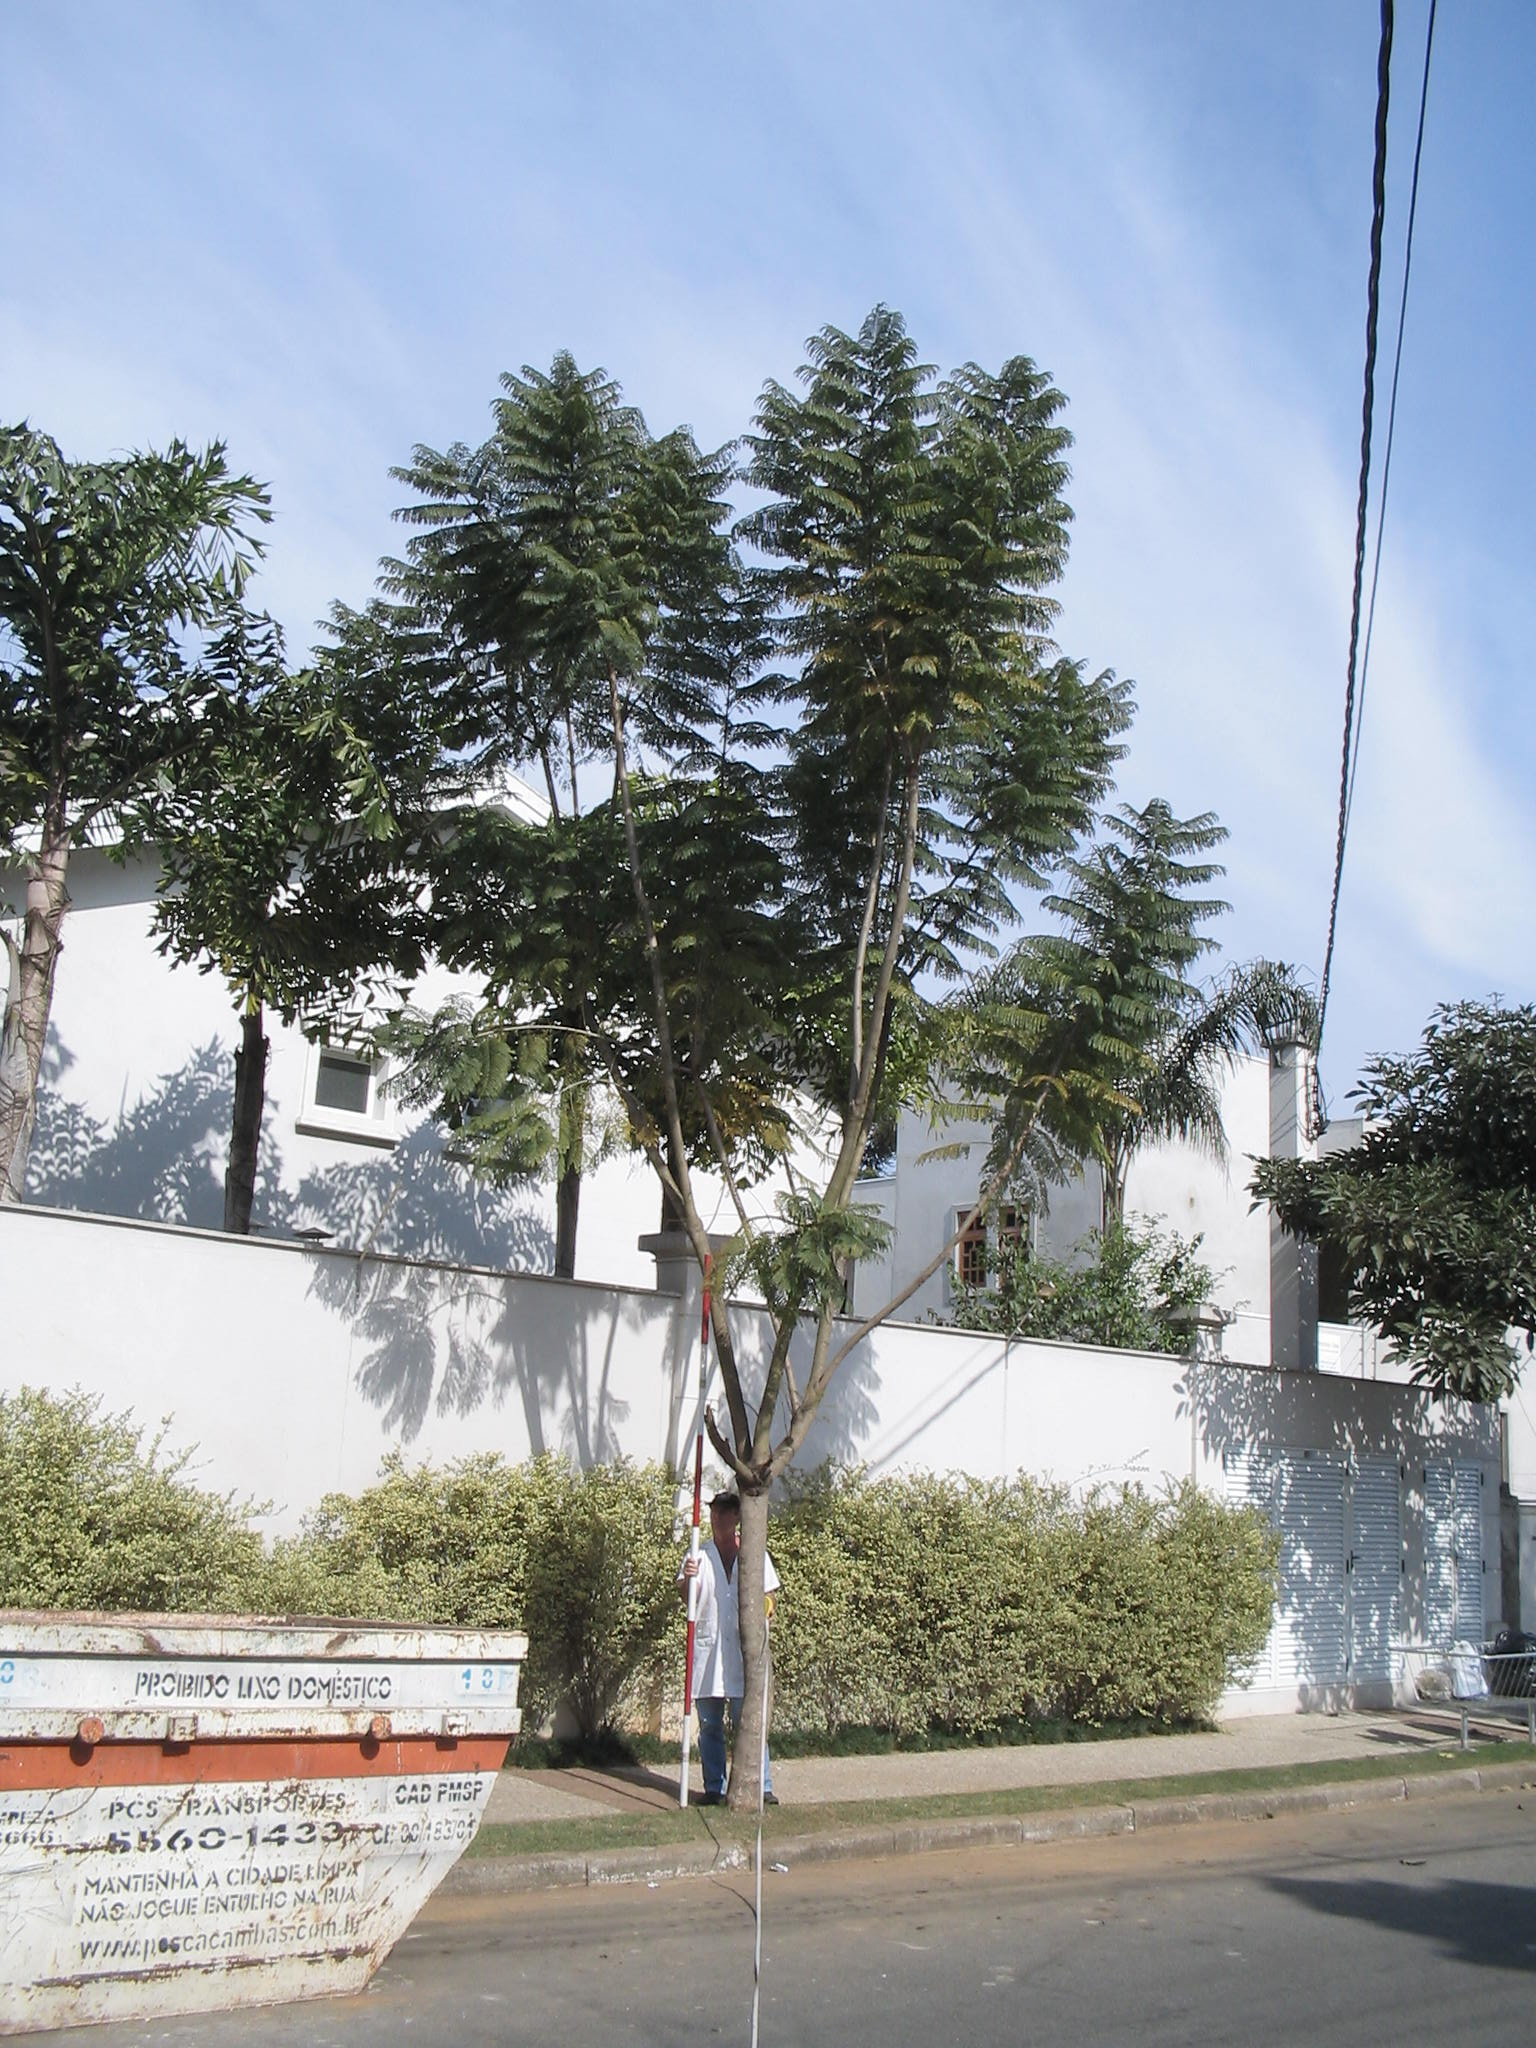crown: (139, 303, 1242, 1347), (10, 413, 269, 887)
stem: (715, 1482, 800, 1808), (10, 868, 86, 1195)
stick: (657, 1258, 728, 1803)
tree: (136, 292, 1250, 1811), (2, 413, 273, 1203)
